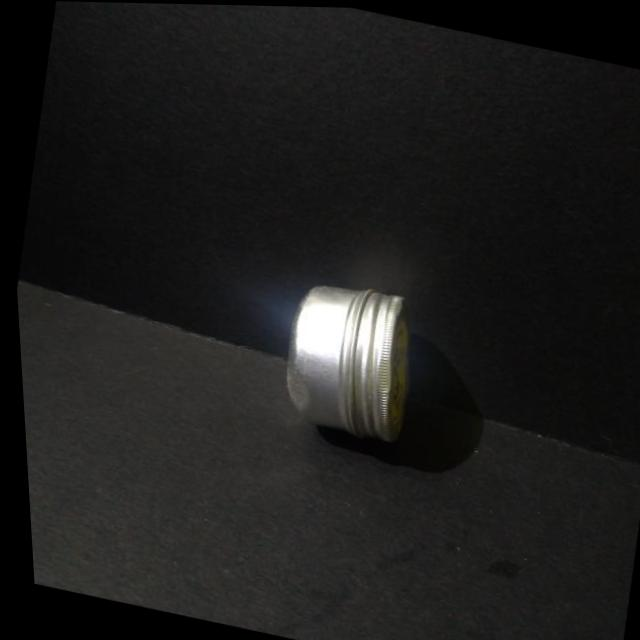metal: (287, 286, 407, 440)
